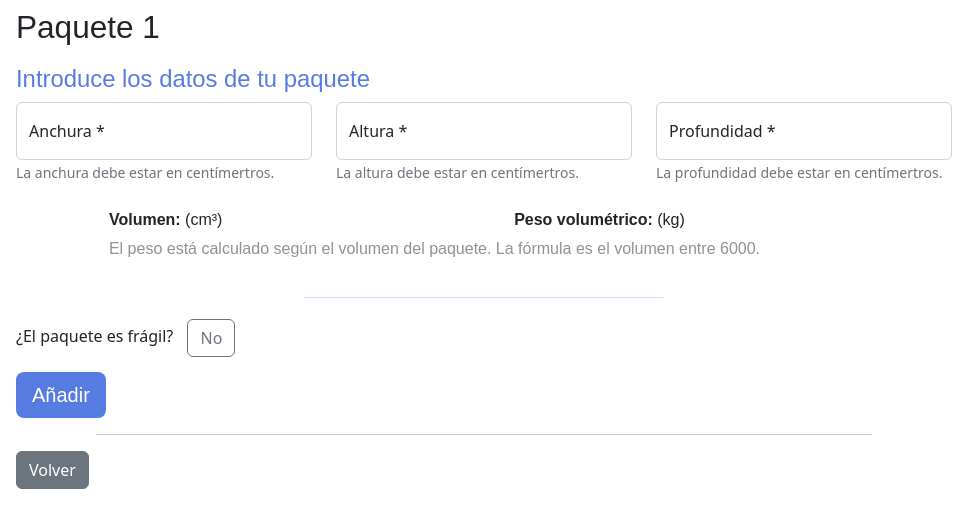
SendPackage › Muestra el texto "¿El paquete es frágil?" y un botón que cambia entre "Sí" o "No", cambiando el valor de fragility del paquete
Expected: the text "¿El paquete es frágil?" is shown, [16,325,178,347]
Click the button "No".
click(211, 338)  # box [188,319,235,357]
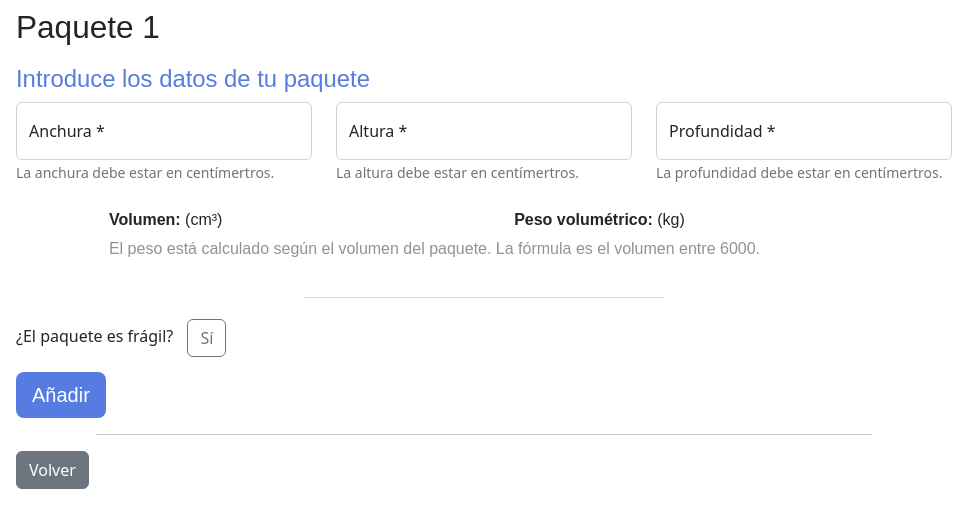
Result: the button "Sí" is shown at [188,319,226,357]
